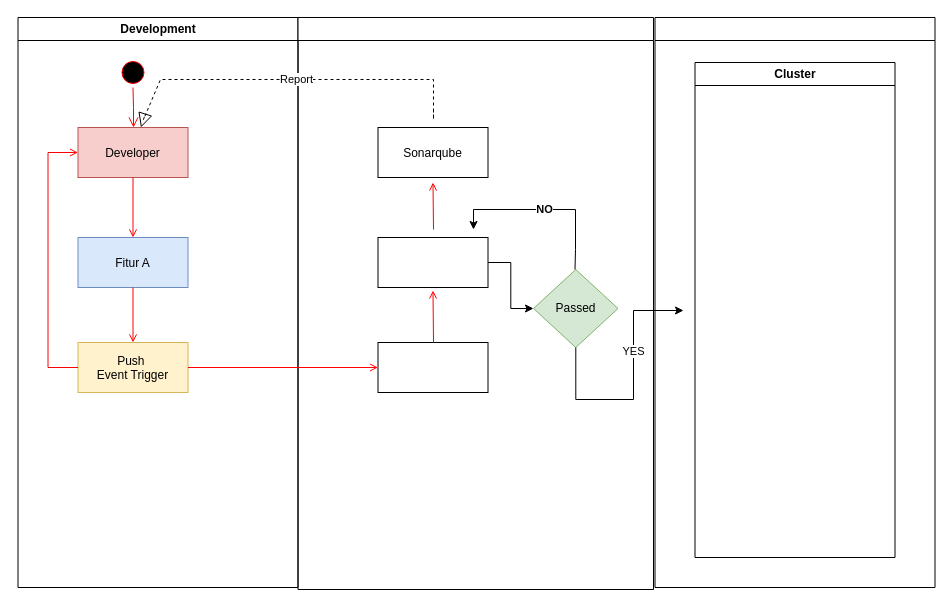
This 952x607 diagram has some shape labels left out. The shapes that lost their labels are listed below. From the top down, each one's box as (x1, y1, x2, y2) in pixels, then its label:
(377, 236, 488, 288): Jenkins
(297, 16, 654, 590): CI/CD
(654, 16, 935, 588): Deployment
(377, 342, 488, 392): Gitlab
